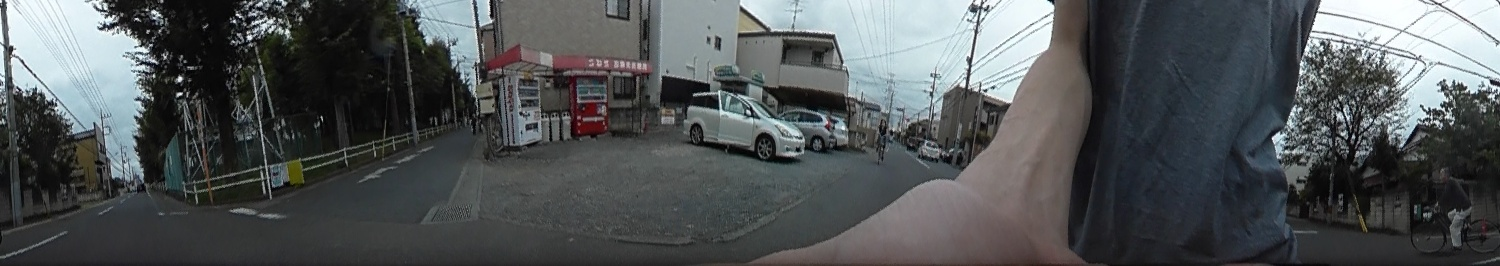difficult_person: (876, 115, 888, 161)
person: (1425, 164, 1471, 256)
